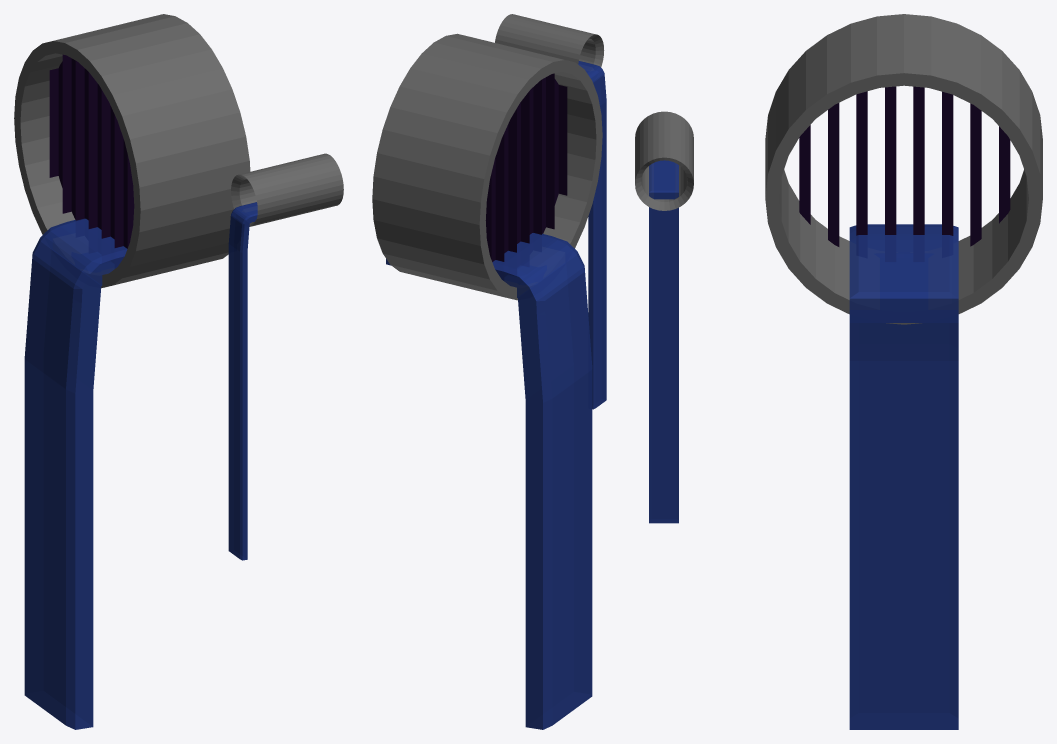
The model's file is pipe.fbx.
3 renders of one model, left to right at view 1: azimuth 30°, elevation 25°; view 2: azimuth 150°, elevation 25°; view 3: azimuth 270°, elevation 25°, orthographic. The views are drawn at different scales.
Parts seen in each view (by area): view 1: Cube.001, Cube.008, Cube.003, Cube.002; view 2: Cube.001, Cube.008, Cube.003, Cube.002; view 3: Cube.008, Cube.001, Cube.003, Cube.002.
Boxes of the visible parts, left/top/right/bottom form: Cube.001: left=14, top=14, right=250, bottom=288; Cube.008: left=24, top=218, right=127, bottom=729; Cube.003: left=228, top=202, right=257, bottom=560; Cube.002: left=231, top=153, right=343, bottom=226; Cube.001: left=372, top=33, right=602, bottom=300; Cube.008: left=386, top=233, right=592, bottom=729; Cube.003: left=578, top=61, right=606, bottom=409; Cube.002: left=495, top=14, right=604, bottom=67; Cube.008: left=849, top=224, right=958, bottom=729; Cube.001: left=765, top=14, right=1042, bottom=324; Cube.003: left=649, top=160, right=678, bottom=523; Cube.002: left=635, top=111, right=693, bottom=210.
Bounding box in the file's own units: 783 × 2791 × 1432.
